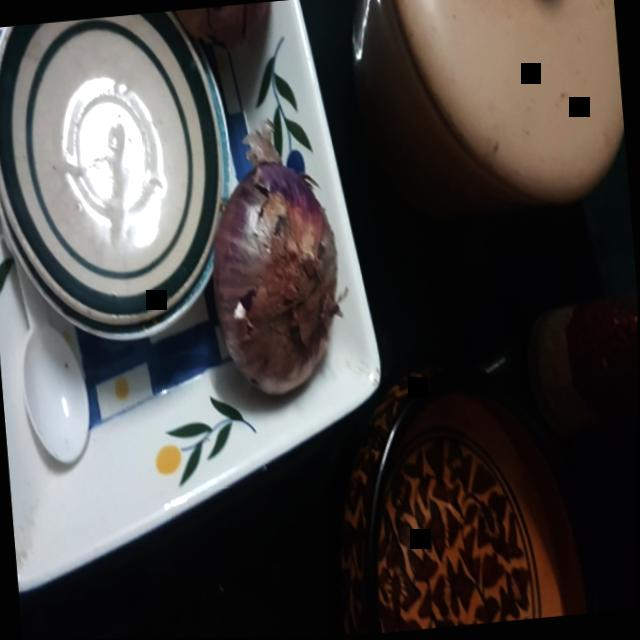onion: (180, 148, 360, 410)
